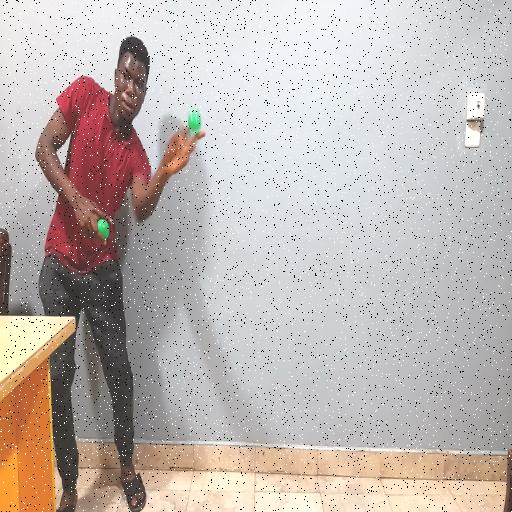plastic-ball: (187, 106, 204, 132)
